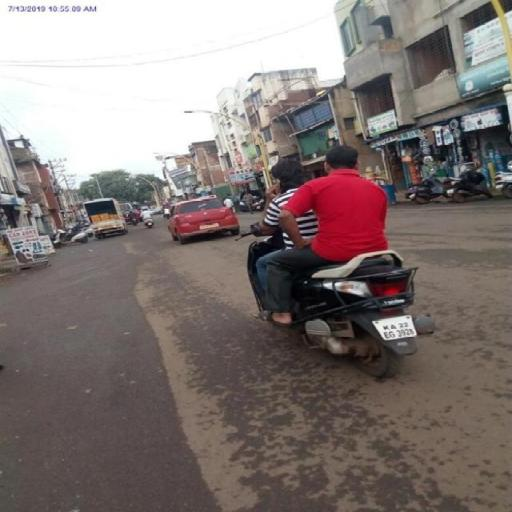numberplate: (374, 310, 418, 342)
using mobile: (266, 176, 290, 202)
